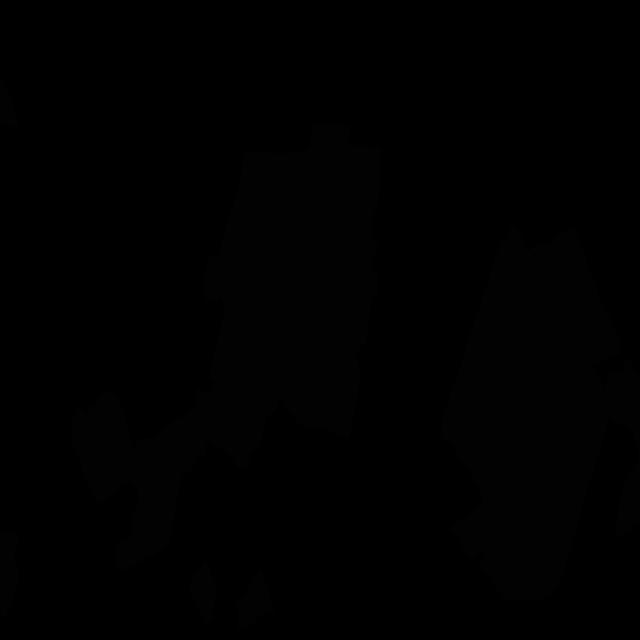cardboard: (440, 225, 608, 600), (195, 124, 381, 439), (115, 401, 266, 572), (528, 226, 621, 364), (71, 392, 140, 506), (604, 359, 640, 538), (236, 569, 275, 630), (189, 559, 218, 625), (0, 530, 20, 622)
